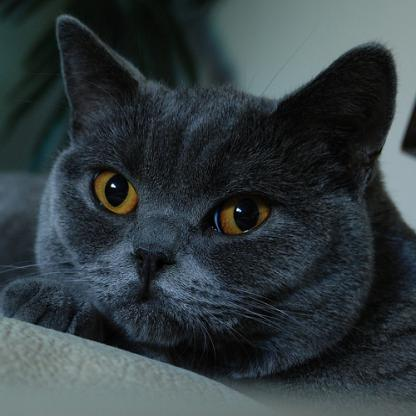cat: (1, 15, 415, 415)
